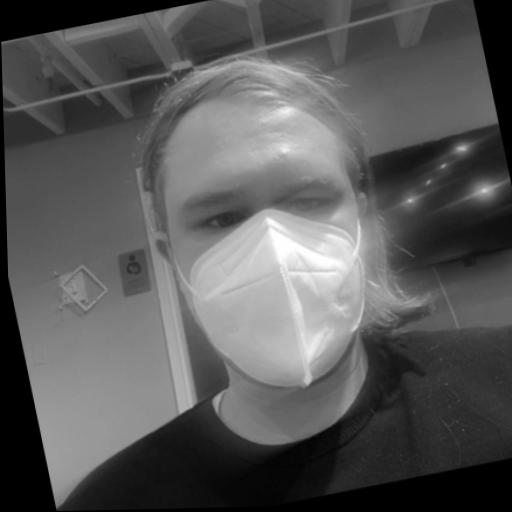mask: (78, 16, 462, 480)
